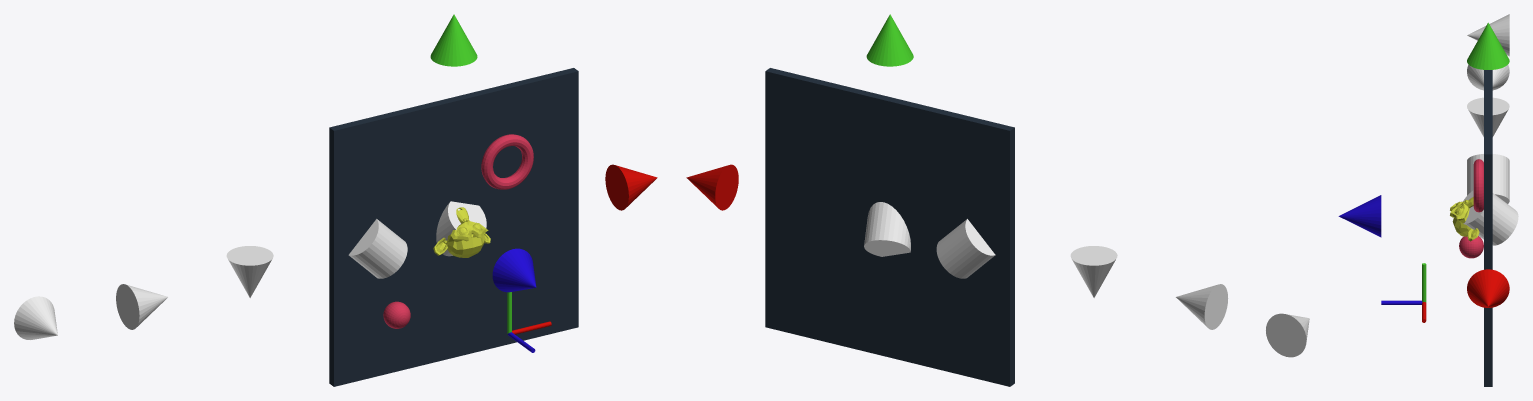
Rendered from GLTFScene01.gltf.
3 views of the same model, side by side, from view 1: azimuth 30°, elevation 25°; view 2: azimuth 150°, elevation 25°; view 3: azimuth 270°, elevation 25° (orthographic). The views are drawn at different scales.
Visible parts, largest first — view 1: Floor, Cylinder.001, Torus, UpCone, Cone.001, Suzanne, ForwardCone, Cone.002, RightCone, Cone, Cylinder, Sphere; view 2: Floor, Cylinder.001, Cylinder, Cone.001, ForwardCone, Cone.002, RightCone, Cone; view 3: Floor, Cylinder, ForwardCone, RightCone, Cylinder.001, UpCone, Cone, Suzanne, Cone.002, Cone.001, Torus, Sphere (+2 smaller).
Boxes of the visible parts, x1,y1,x2,y2 form: Floor: (329, 68, 578, 386); Cylinder.001: (348, 219, 407, 278); Torus: (481, 134, 533, 189); UpCone: (492, 248, 536, 292); Cone.001: (14, 296, 57, 339); Suzanne: (433, 207, 490, 257); ForwardCone: (605, 164, 657, 210); Cone.002: (116, 284, 167, 329); RightCone: (430, 14, 477, 66); Cone: (226, 246, 273, 297); Cylinder: (436, 201, 486, 256); Sphere: (383, 301, 410, 328); Floor: (765, 68, 1014, 386); Cylinder.001: (936, 219, 995, 278); Cylinder: (864, 202, 910, 256); Cone.001: (1266, 313, 1309, 357); ForwardCone: (686, 164, 738, 210); Cone.002: (1176, 284, 1228, 329); RightCone: (866, 14, 913, 66); Cone: (1070, 246, 1117, 297); Floor: (1484, 70, 1492, 386); Cylinder: (1463, 190, 1518, 245); ForwardCone: (1467, 269, 1509, 307); RightCone: (1467, 22, 1509, 69); Cylinder.001: (1467, 154, 1509, 203); UpCone: (1338, 195, 1381, 237); Cone: (1467, 97, 1509, 136); Suzanne: (1450, 197, 1479, 241); Cone.002: (1467, 64, 1509, 90); Cone.001: (1467, 14, 1509, 56); Torus: (1473, 159, 1483, 212); Sphere: (1459, 236, 1483, 258).
Size of the model in its own units: 31 by 16 by 8.41.
